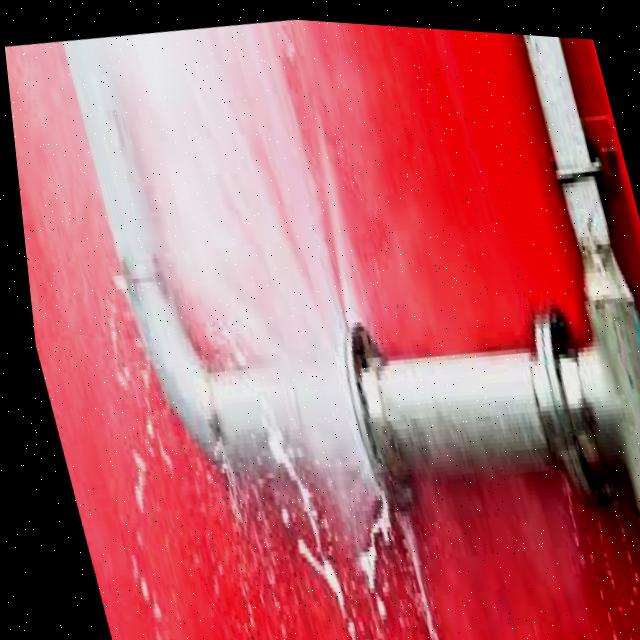corrosion: (196, 178, 505, 618)
